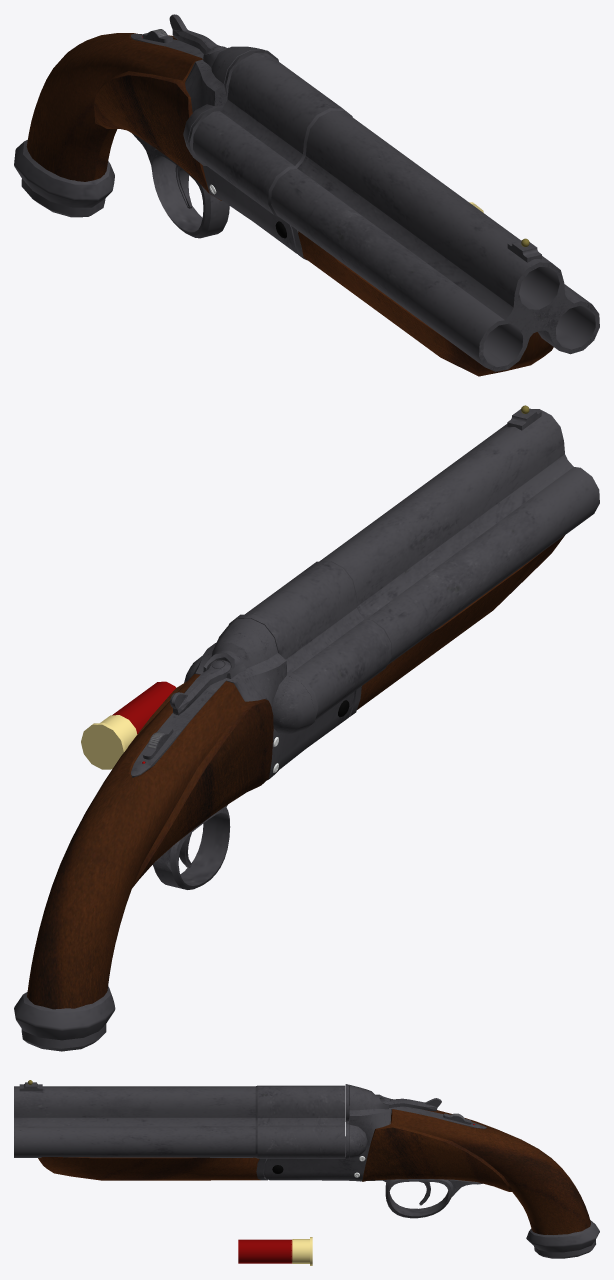
File: Triple_Barrel_Shotgun.obj
3 views of the same model, one above another, from view 1: azimuth 30°, elevation 25°; view 2: azimuth 150°, elevation 25°; view 3: azimuth 270°, elevation 25° (orthographic). The views are drawn at different scales.
Parts seen in each view (by area): view 1: ThreeBarrels, wooden_Untitled.027, Shell_HLD_Untitled.003, KBZ_Untitled, Cap_Untitled.026, Trigger_C_Untitled.015, SLC_Cylinder; view 2: ThreeBarrels, wooden_Untitled.027, Shell_HLD_Untitled.003, KBZ_Untitled, Cap_Untitled.026, Shell_ThreeBarrels.001, Trigger_C_Untitled.015, SLC_Cylinder; view 3: ThreeBarrels, wooden_Untitled.027, Shell_HLD_Untitled.003, KBZ_Untitled, Shell_ThreeBarrels.001, Cap_Untitled.026, Trigger_C_Untitled.015, SLC_Cylinder.
Boxes of the visible parts, x1=… form: ThreeBarrels: x1=193, y1=53, x2=599, y2=371; wooden_Untitled.027: x1=26, y1=33, x2=221, y2=200; Shell_HLD_Untitled.003: x1=131, y1=34, x2=297, y2=253; KBZ_Untitled: x1=298, y1=231, x2=553, y2=376; Cap_Untitled.026: x1=14, y1=140, x2=114, y2=217; Trigger_C_Untitled.015: x1=132, y1=133, x2=229, y2=238; SLC_Cylinder: x1=169, y1=14, x2=226, y2=54; ThreeBarrels: x1=245, y1=409, x2=599, y2=719; wooden_Untitled.027: x1=27, y1=674, x2=273, y2=1009; Shell_HLD_Untitled.003: x1=131, y1=614, x2=354, y2=779; KBZ_Untitled: x1=357, y1=535, x2=564, y2=709; Cap_Untitled.026: x1=14, y1=986, x2=115, y2=1051; Shell_ThreeBarrels.001: x1=81, y1=681, x2=176, y2=769; Trigger_C_Untitled.015: x1=152, y1=805, x2=230, y2=889; SLC_Cylinder: x1=170, y1=660, x2=231, y2=715; ThreeBarrels: x1=14, y1=1085, x2=345, y2=1158; wooden_Untitled.027: x1=362, y1=1109, x2=590, y2=1234; Shell_HLD_Untitled.003: x1=264, y1=1084, x2=486, y2=1181; KBZ_Untitled: x1=38, y1=1157, x2=260, y2=1180; Shell_ThreeBarrels.001: x1=238, y1=1237, x2=312, y2=1265; Cap_Untitled.026: x1=526, y1=1220, x2=599, y2=1258; Trigger_C_Untitled.015: x1=367, y1=1179, x2=482, y2=1218; SLC_Cylinder: x1=380, y1=1097, x2=441, y2=1111.
Size of the model in its own units: 1.07 by 1.15 by 3.52.
Materials: 2 (2 with a texture image).
